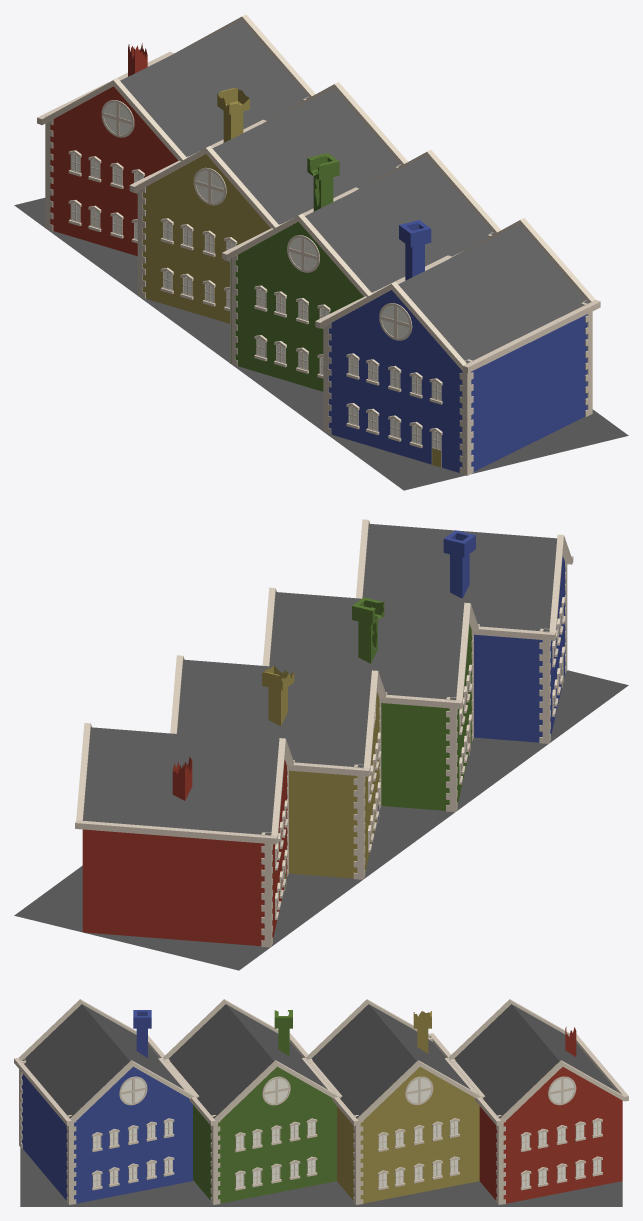
File: 3x1_Buildings.col.glb
3 views of the same model, one above another, from view 1: azimuth 30°, elevation 25°; view 2: azimuth 150°, elevation 25°; view 3: azimuth 270°, elevation 25° (orthographic). The views are drawn at different scales.
Parts seen in each view (by area): view 1: 3x1_Buildings.col; view 2: 3x1_Buildings.col; view 3: 3x1_Buildings.col.
Part boxes in pixels (x1,y1,x2,y2): 3x1_Buildings.col: (14, 14, 628, 490); 3x1_Buildings.col: (14, 519, 628, 970); 3x1_Buildings.col: (14, 999, 628, 1206).
Bounding box in the file's own units: 20.81 × 15.62 × 61.26.
